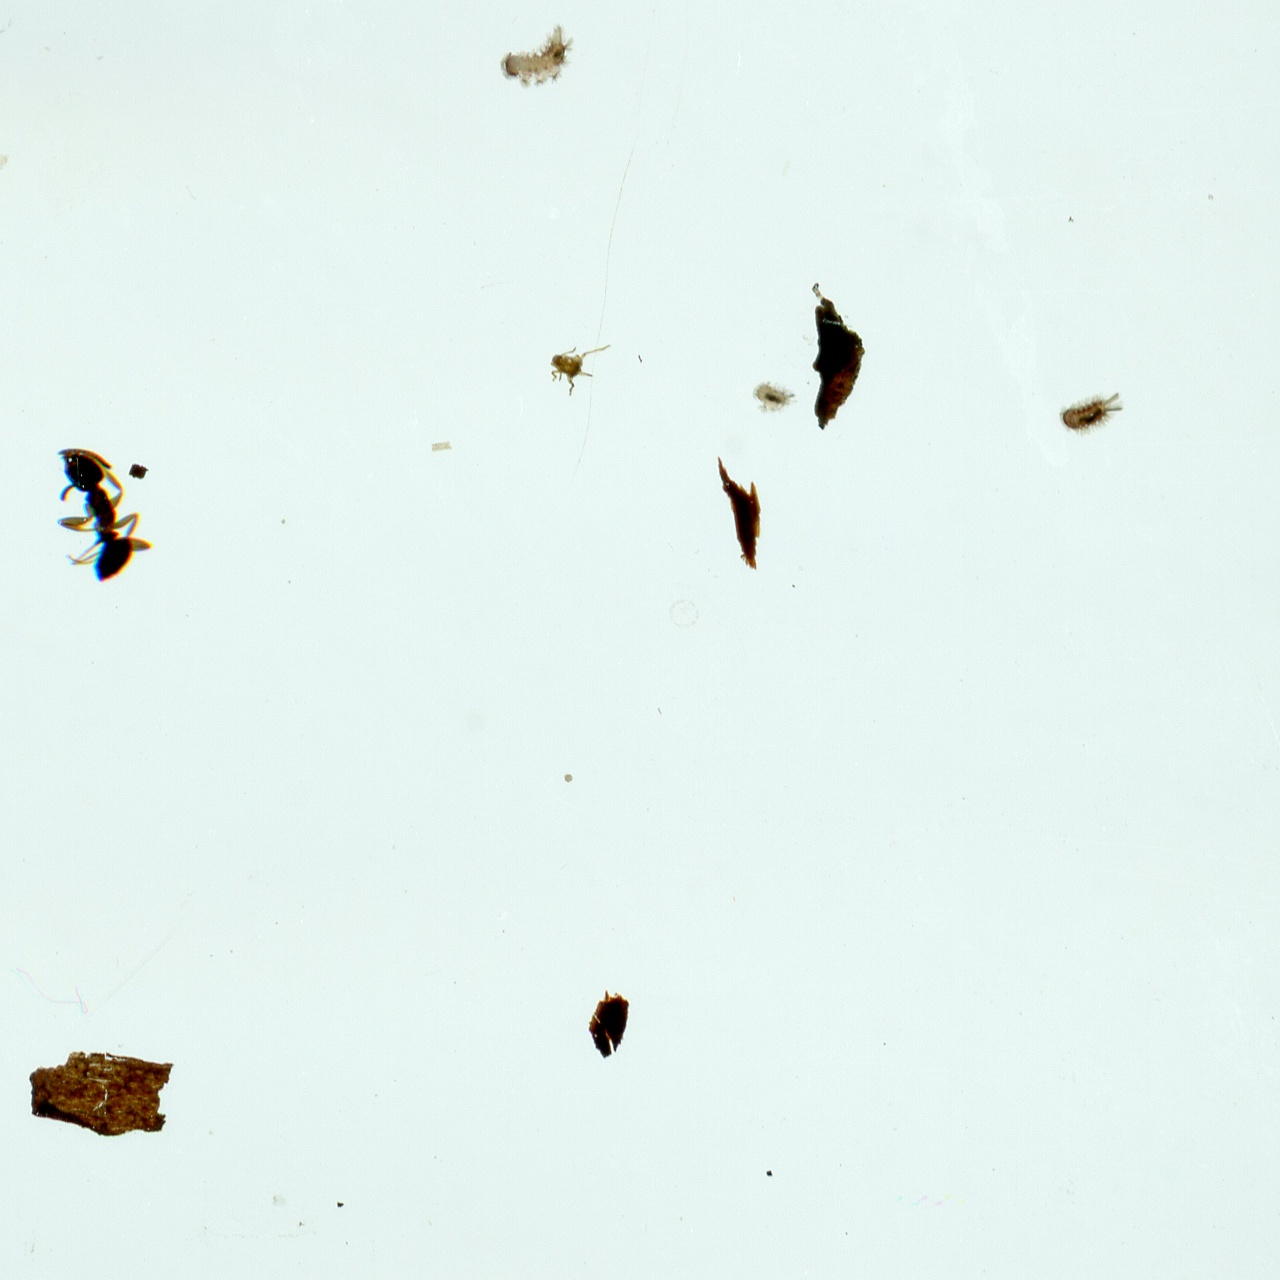arthropod: (52, 444, 159, 591), (1047, 377, 1137, 448), (496, 18, 581, 90), (546, 342, 615, 400), (748, 376, 804, 419)
